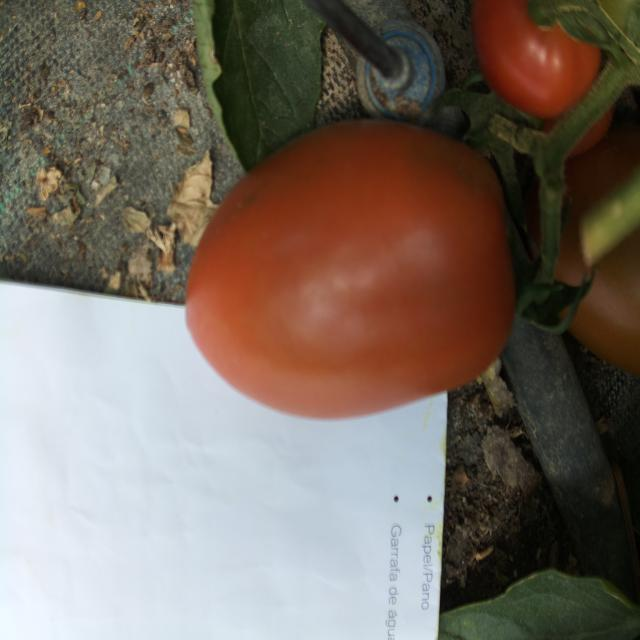kirmizi: (144, 145, 532, 440)
